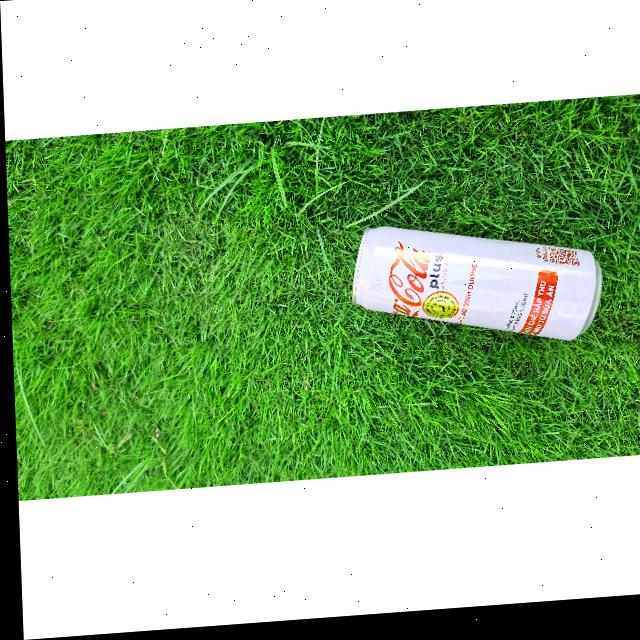Coca Cola Plus: (343, 212, 614, 365)
